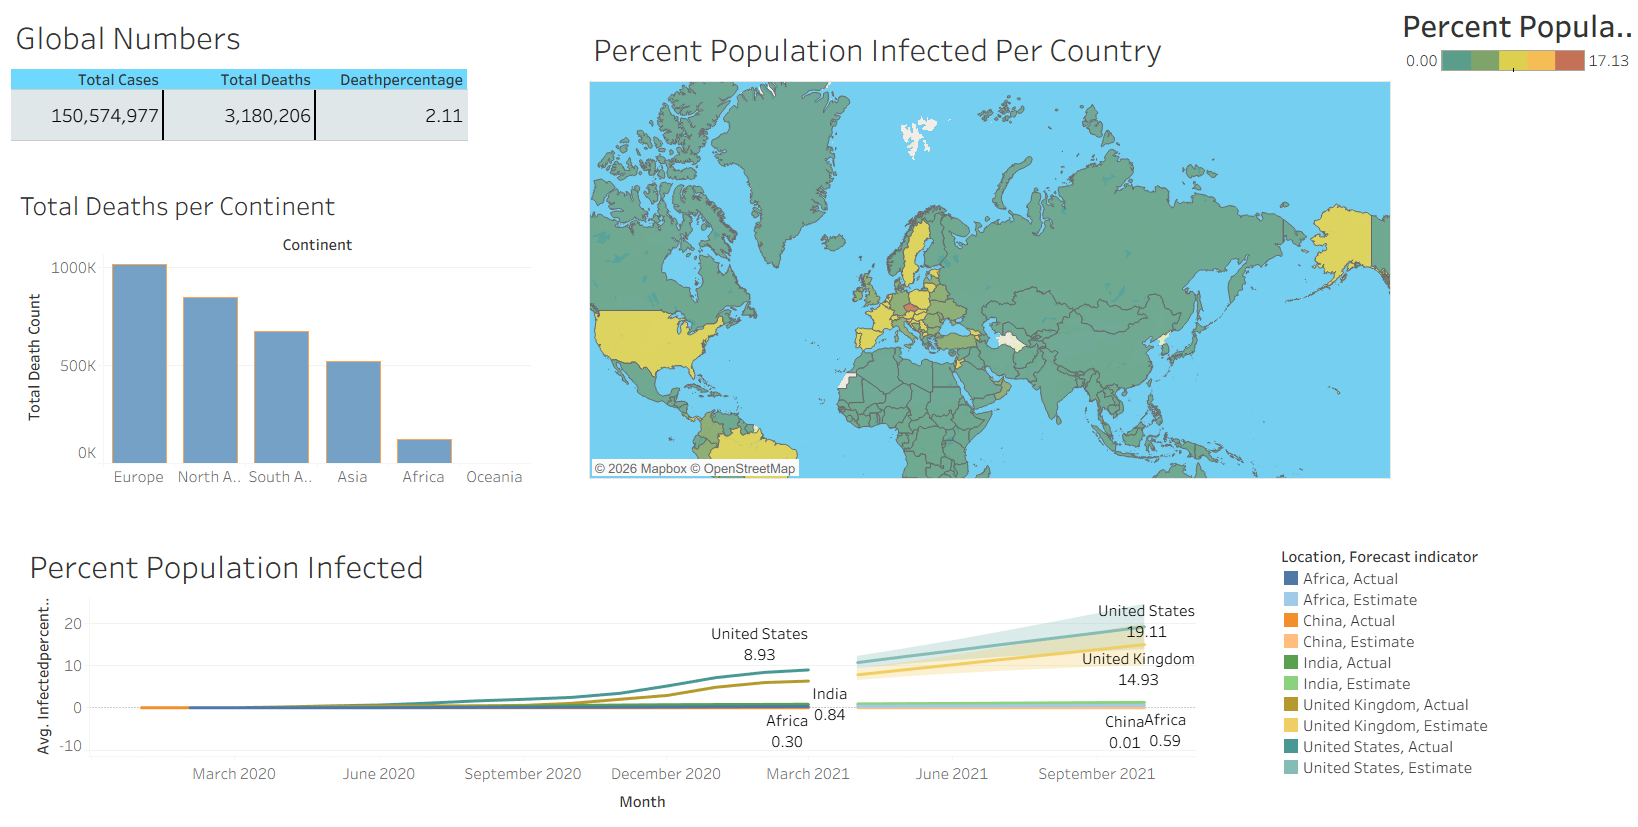

This screenshot's page, from the dashboard's own definition file:
{"tool":"tableau","page":{"name":"Dashboard 1","canvas":[1000,1000],"units":"permille","ordinal":0},"visuals":[{"type":"legend","title":"Sheet 3","param":"[federated.1civf7m1dc1x3y18ok72209xpeiu].[sum:infectedpercentage:qk]","box":[850,27.5,140,113.8]},{"type":"worksheet","title":"Sheet 2","mark":"Automatic","box":[10.3,36.4,338.6,204.5]},{"type":"worksheet","title":"Sheet 3","mark":"Automatic","box":[359.1,50.5,484,534.7]},{"type":"worksheet","title":"Sheet 1","mark":"Automatic","rows":["TotalDeathCount"],"cols":["continent"],"box":[13.3,238.5,310.8,374.9]},{"type":"worksheet","title":"Sheet 4","mark":"Automatic","rows":["infectedpercentage"],"cols":["Date_New"],"box":[19,657.5,707,326.2]},{"type":"legend","title":"Sheet 4","param":"[federated.1csudul02d2k2b185qtrp1mywaw1].[none:location:nk]\n[federated.1csudul02","box":[777,663.8,212,317.5]}]}

Visuals, with their boxes on the dashboard's canvas, which has no fixed pixel size, in thousandths of its width and height (x1, y1, x2, y2). These are canvas units, not pixel positions in the 1638x827 screenshot, which may show the page scaled, cropped or inside an application window:
"Sheet 3" legend: select_region(850, 28, 990, 141)
"Sheet 2" worksheet: select_region(10, 36, 349, 241)
"Sheet 3" worksheet: select_region(359, 50, 843, 585)
"Sheet 1" worksheet: select_region(13, 238, 324, 613)
"Sheet 4" worksheet: select_region(19, 658, 726, 984)
"Sheet 4" legend: select_region(777, 664, 989, 981)
